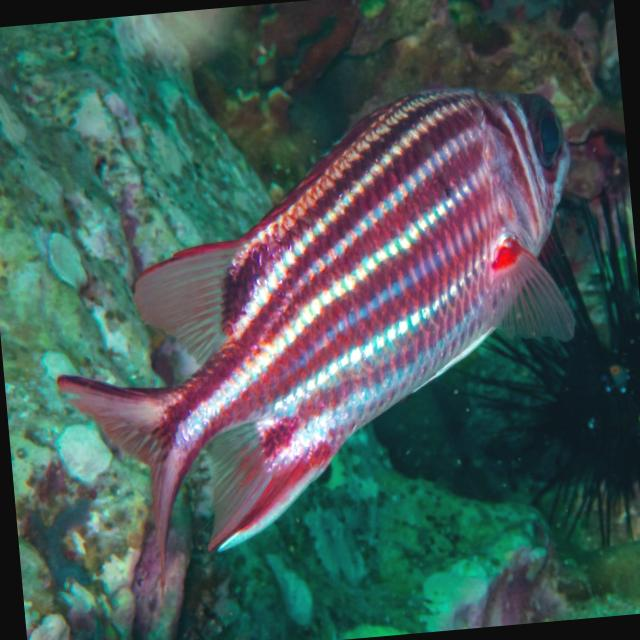Asker Baligi: (31, 73, 606, 592)
